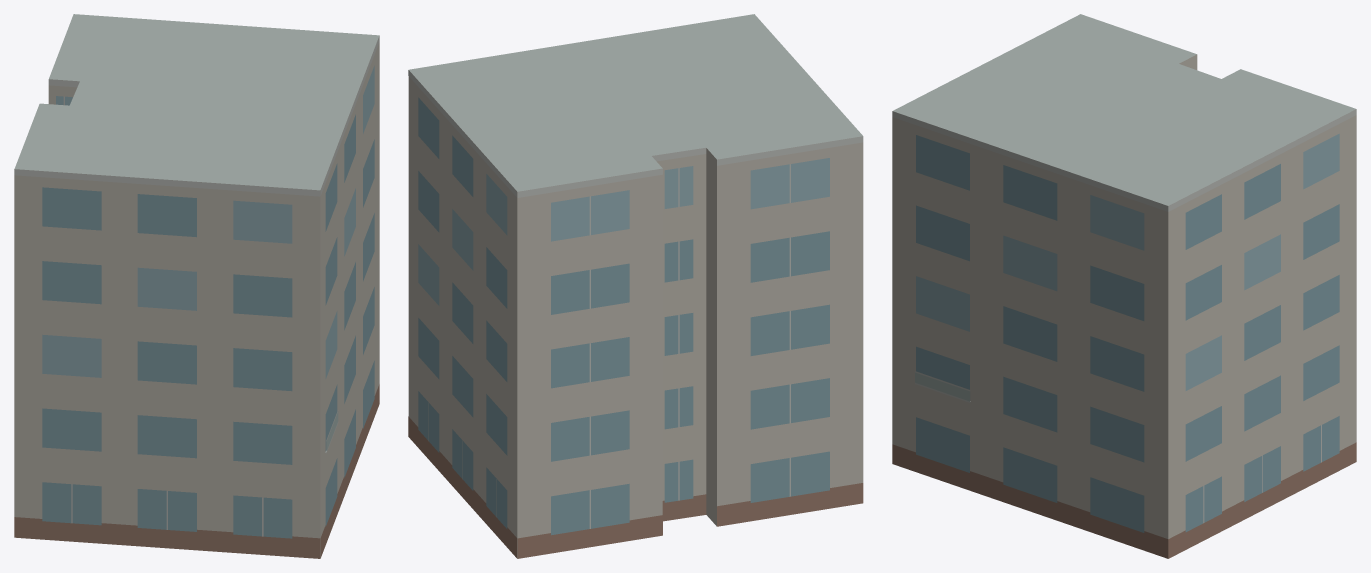
File: survey-upis-32708687.glb
3 views of the same model, side by side, from view 1: azimuth 30°, elevation 25°; view 2: azimuth 150°, elevation 25°; view 3: azimuth 270°, elevation 25° (orthographic). The views are drawn at different scales.
Visible parts, largest first — view 1: survey-upis-32708687.tmp; view 2: survey-upis-32708687.tmp; view 3: survey-upis-32708687.tmp.
Boxes of the visible parts, box(x1,y1,x2,y2) form: survey-upis-32708687.tmp: box(14, 14, 379, 558); survey-upis-32708687.tmp: box(408, 14, 863, 558); survey-upis-32708687.tmp: box(892, 14, 1356, 558).
Size of the model in its own units: 16.81 by 14.4 by 17.18.
